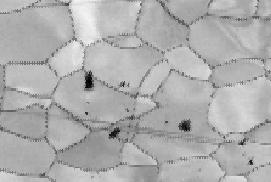good_void: (82, 69, 97, 92), (176, 118, 194, 133), (108, 126, 121, 139), (116, 79, 132, 88), (238, 136, 248, 146), (248, 157, 256, 166), (124, 107, 131, 113), (165, 120, 170, 124), (85, 111, 89, 116)
